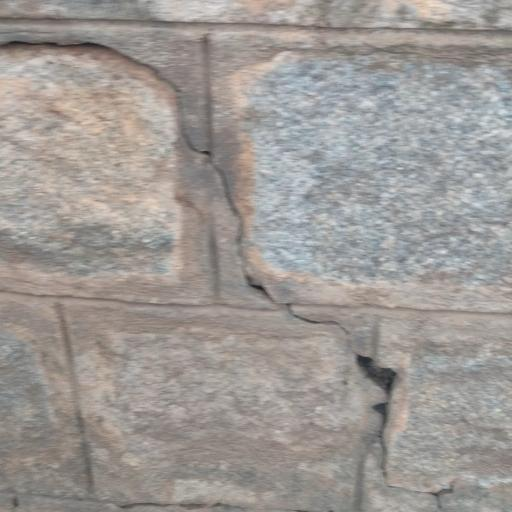major_crack: (1, 17, 451, 506)
